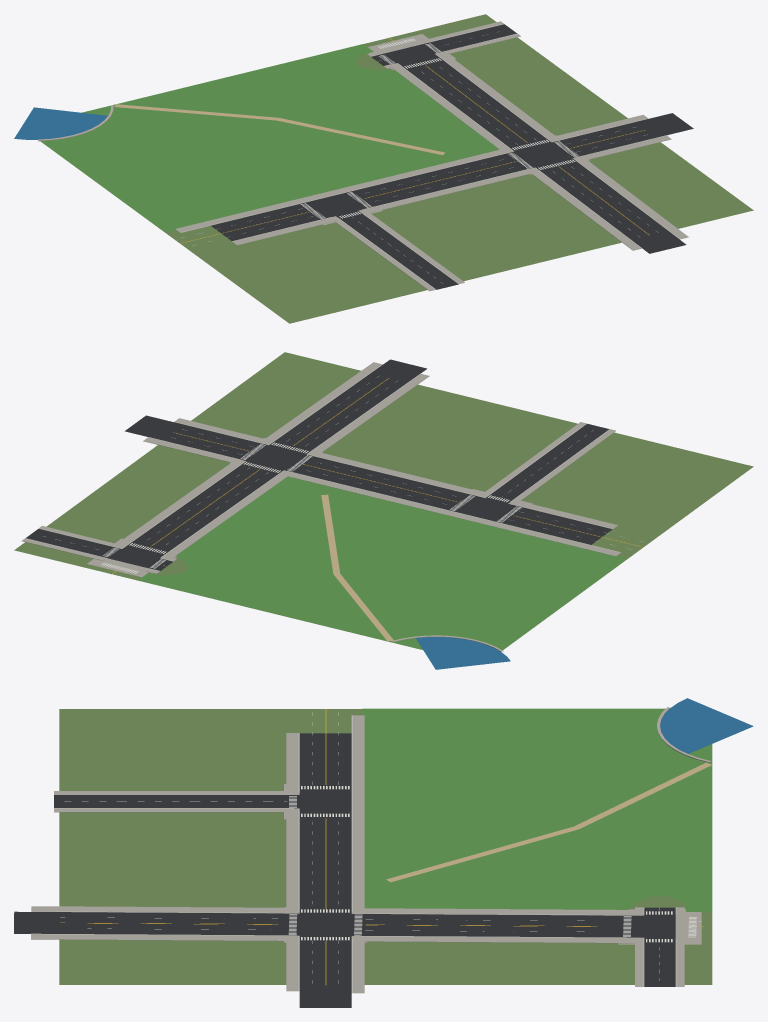
The model's file is Ground_6_5.fbx.
3 views of the same model, one above another, from view 1: azimuth 30°, elevation 25°; view 2: azimuth 150°, elevation 25°; view 3: azimuth 270°, elevation 25° (orthographic). The views are drawn at different scales.
Visible parts, largest first — view 1: Ground_6_5; view 2: Ground_6_5; view 3: Ground_6_5.
Boxes of the visible parts, x1,y1,x2,y2 form: Ground_6_5: (14, 14, 753, 323); Ground_6_5: (14, 352, 753, 669); Ground_6_5: (14, 698, 753, 1007).
Bounding box in the file's own units: 280 × 0.4 × 283.
